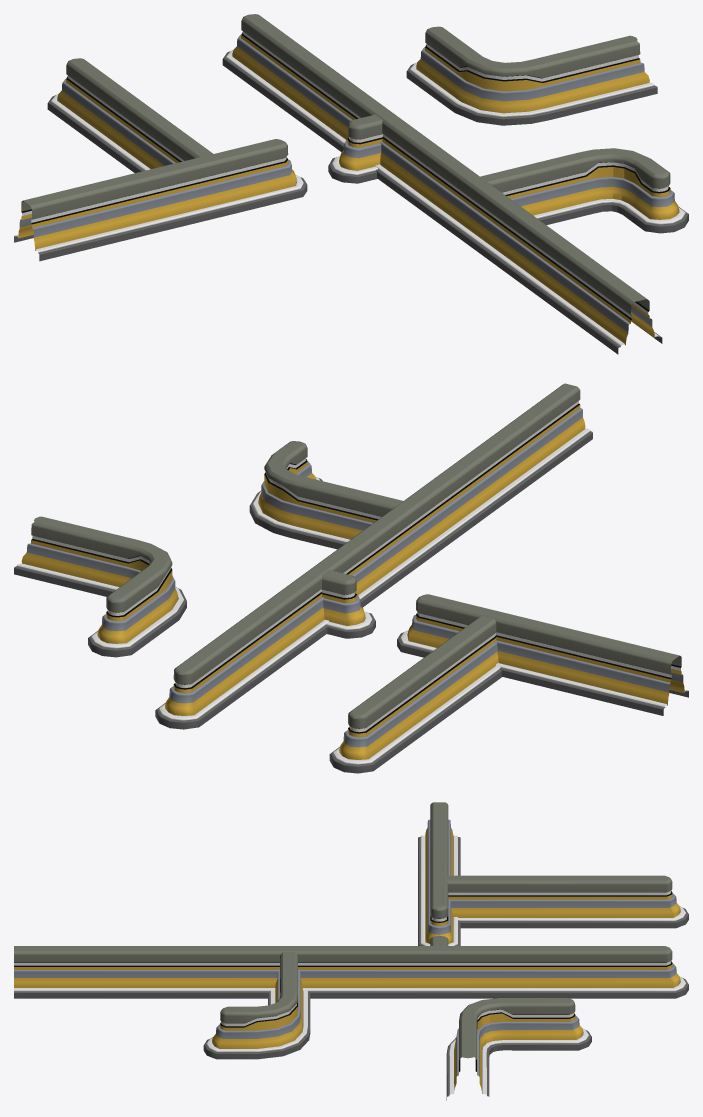
File: Small walls.fbx
3 renders of one model, top to bottom at view 1: azimuth 30°, elevation 25°; view 2: azimuth 150°, elevation 25°; view 3: azimuth 270°, elevation 25°, orthographic. The views are drawn at different scales.
Visible parts, largest first — view 1: Small_wall_L82, Small_wall_L79, Small_wall_L42, Small_wall_L43, Small_wall_L80, Small_wall_L81; view 2: Small_wall_L82, Small_wall_L79, Small_wall_L42, Small_wall_L80, Small_wall_L43, Small_wall_L81; view 3: Small_wall_L82, Small_wall_L80, Small_wall_L42, Small_wall_L43, Small_wall_L79.
Boxes of the visible parts, x1,y1,x2,y2 form: Small_wall_L82: [222, 14, 662, 354]; Small_wall_L79: [14, 139, 307, 261]; Small_wall_L42: [406, 26, 657, 125]; Small_wall_L43: [480, 148, 688, 233]; Small_wall_L80: [47, 58, 212, 172]; Small_wall_L81: [328, 114, 382, 183]; Small_wall_L82: [155, 383, 592, 729]; Small_wall_L79: [397, 594, 688, 715]; Small_wall_L42: [14, 516, 186, 657]; Small_wall_L80: [329, 615, 501, 773]; Small_wall_L43: [249, 441, 403, 549]; Small_wall_L81: [321, 570, 375, 638]; Small_wall_L82: [14, 946, 688, 998]; Small_wall_L80: [446, 875, 688, 928]; Small_wall_L42: [446, 998, 591, 1100]; Small_wall_L43: [203, 952, 310, 1059]; Small_wall_L79: [418, 802, 460, 945].
Size of the model in its own units: 497 by 38.19 by 546.
